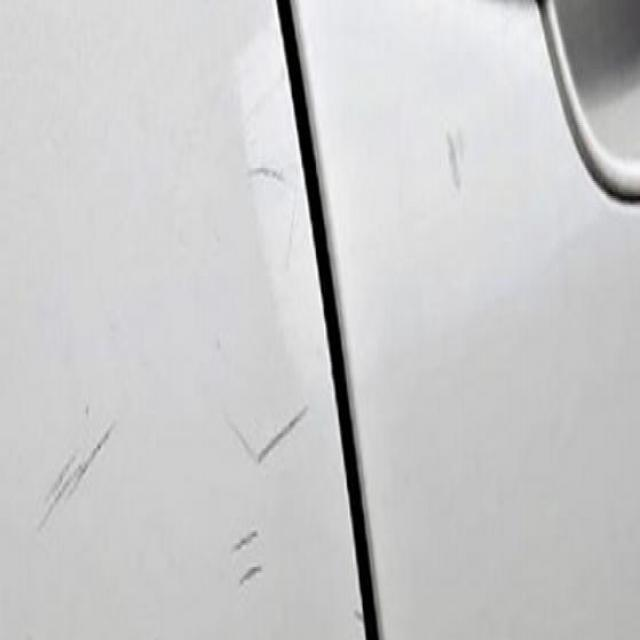scratch: (24, 400, 124, 552), (234, 382, 317, 482), (211, 520, 277, 613)
